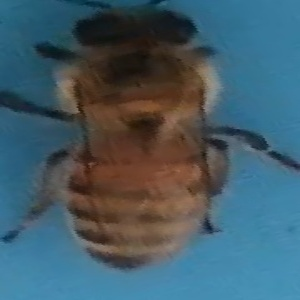bee: (20, 1, 290, 275)
